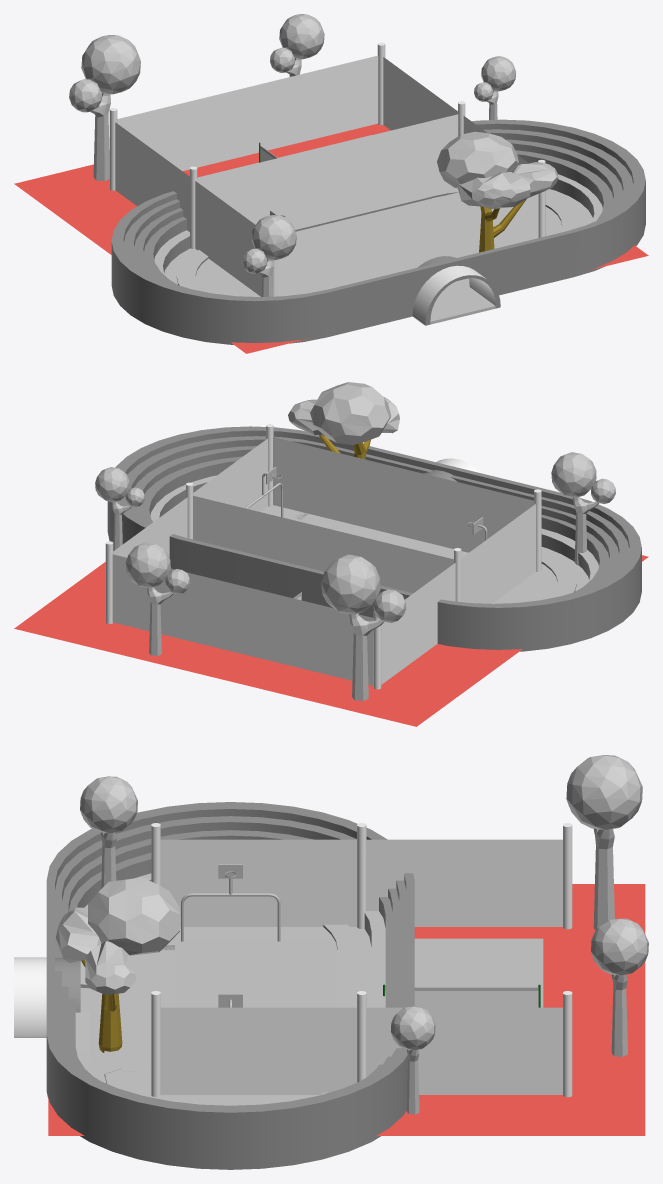
The model's file is courts.obj.
3 renders of one model, top to bottom at view 1: azimuth 30°, elevation 25°; view 2: azimuth 150°, elevation 25°; view 3: azimuth 270°, elevation 25°, orthographic. The views are drawn at different scales.
Visible parts, largest first — view 1: Boole.2, Cube_1, Cube_2, Cube_3, Cube, Plane, Platonic, Icosphere_Icosphere_002_2, Boole, Platonic.1, Icosphere_Icosphere_002_3, Icosphere_Icosphere_002_1 (+10 smaller); view 2: Boole.2, Plane, Cube_3, Cube_1, Cube, Cube_2, Platonic, Icosphere_Icosphere_002_2, Icosphere_Icosphere_002_3, Icosphere_Icosphere_002_1, Cylinder_014_2, Cylinder_1 (+10 smaller); view 3: Cube, Boole.2, Plane, Plane_1, Plane.1, Platonic, Icosphere_Icosphere_002_2, Boole, Icosphere_Icosphere_002_1, Icosphere_Icosphere_002_3, Platonic.2, Cube_4 (+11 smaller).
Boxes of the visible parts, x1,y1,x2,y2 form: Boole.2: [111, 119, 645, 344]; Cube_1: [117, 55, 378, 171]; Cube_2: [197, 114, 458, 224]; Cube_3: [277, 192, 538, 296]; Cube: [115, 57, 528, 296]; Plane: [14, 123, 648, 353]; Platonic: [437, 131, 518, 188]; Icosphere_Icosphere_002_2: [81, 35, 140, 94]; Boole: [412, 256, 500, 325]; Platonic.1: [458, 172, 530, 209]; Icosphere_Icosphere_002_3: [251, 215, 296, 260]; Icosphere_Icosphere_002_1: [279, 14, 324, 59]; Boole.2: [107, 426, 641, 651]; Plane: [14, 555, 648, 726]; Cube_3: [273, 437, 533, 552]; Cube_1: [112, 554, 373, 685]; Cube: [113, 438, 535, 684]; Cube_2: [193, 495, 453, 593]; Platonic: [310, 382, 391, 445]; Icosphere_Icosphere_002_2: [321, 554, 380, 614]; Icosphere_Icosphere_002_3: [551, 452, 596, 497]; Icosphere_Icosphere_002_1: [125, 542, 170, 588]; Cylinder_014_2: [349, 613, 384, 700]; Cylinder_1: [105, 541, 381, 689]; Cube: [160, 839, 562, 1094]; Boole.2: [14, 802, 414, 1169]; Plane: [48, 884, 645, 1135]; Plane_1: [175, 938, 337, 1007]; Plane.1: [414, 938, 543, 1007]; Platonic: [88, 877, 180, 955]; Icosphere_Icosphere_002_2: [566, 755, 642, 829]; Boole: [14, 957, 80, 1037]; Icosphere_Icosphere_002_1: [591, 918, 648, 975]; Icosphere_Icosphere_002_3: [80, 776, 137, 833]; Platonic.2: [85, 941, 135, 994]; Cube_4: [385, 991, 538, 1007].
Size of the model in its own units: 493 by 135 by 426.
